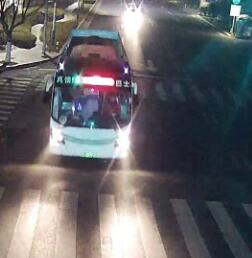bus: (45, 26, 138, 164)
car: (117, 0, 146, 22)
